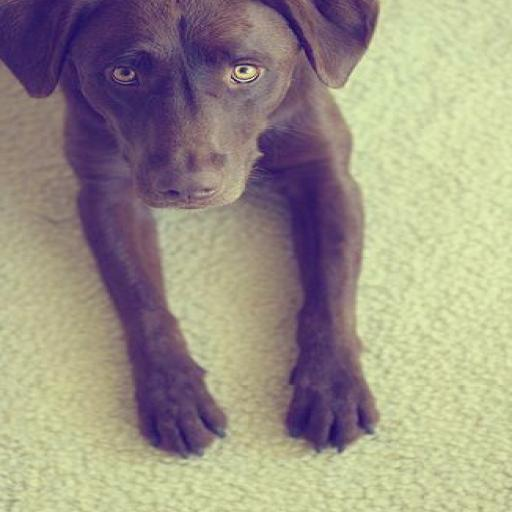dog_face: (5, 0, 366, 206)
